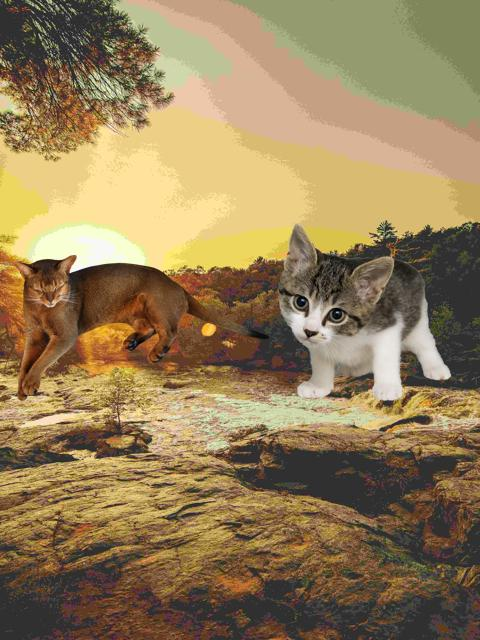cat: (14, 257, 268, 399), (280, 220, 454, 403)
